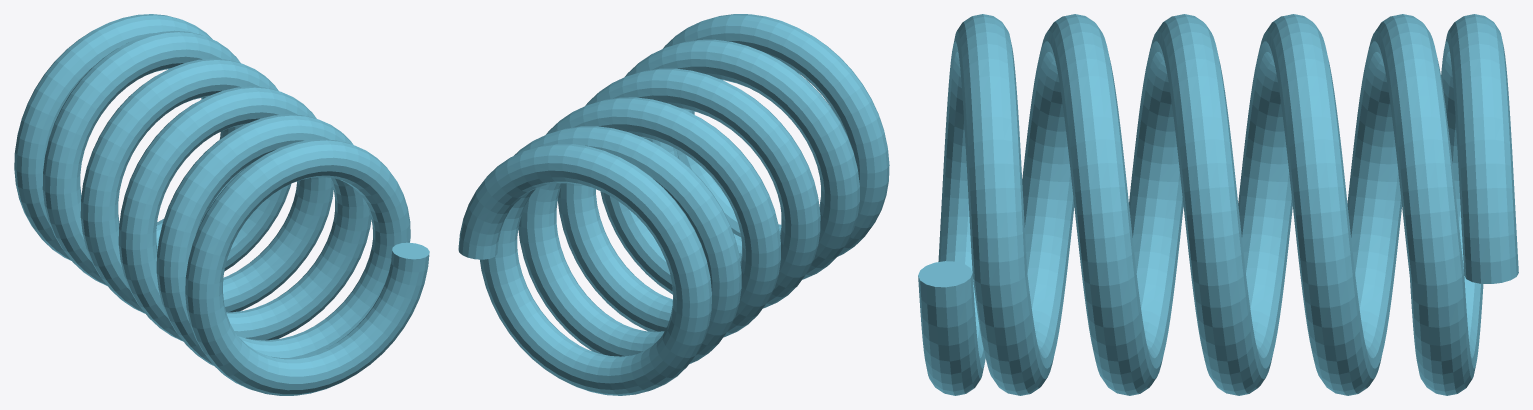
File: coil_spring_demo.glb
3 views of the same model, side by side, from view 1: azimuth 30°, elevation 25°; view 2: azimuth 150°, elevation 25°; view 3: azimuth 270°, elevation 25° (orthographic). The views are drawn at different scales.
Visible parts, largest first — view 1: coil_spring; view 2: coil_spring; view 3: coil_spring.
Part boxes in pixels (box(x1,y1,x2,y2)): coil_spring: box(14, 14, 429, 395); coil_spring: box(458, 14, 889, 395); coil_spring: box(918, 14, 1518, 395).
Bounding box in the file's own units: 14 × 14 × 22.
